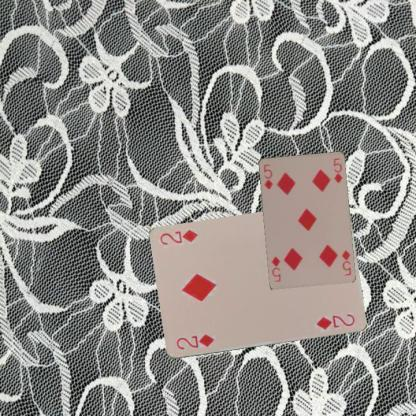2d: (173, 332, 216, 351)
5d: (338, 247, 352, 277), (261, 161, 274, 190)
